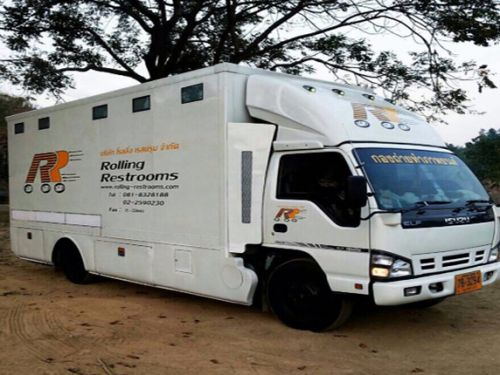truck: (6, 63, 499, 333)
